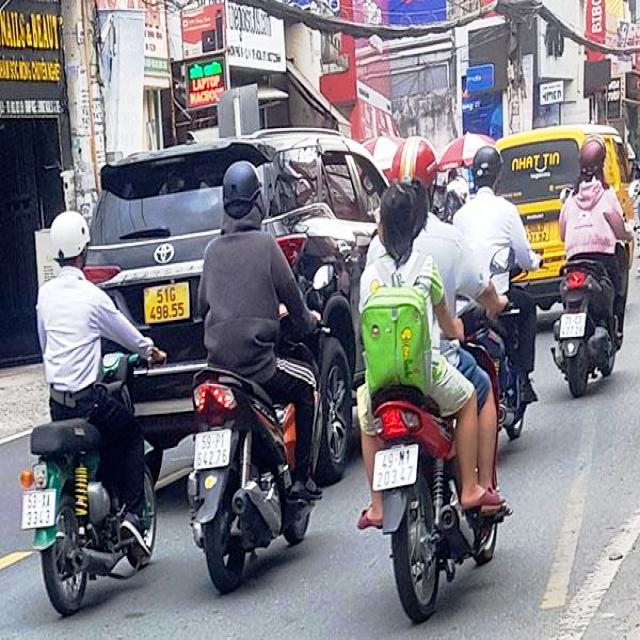license_plate: (146, 280, 192, 325), (374, 445, 418, 492), (194, 429, 234, 473), (23, 492, 56, 532)
